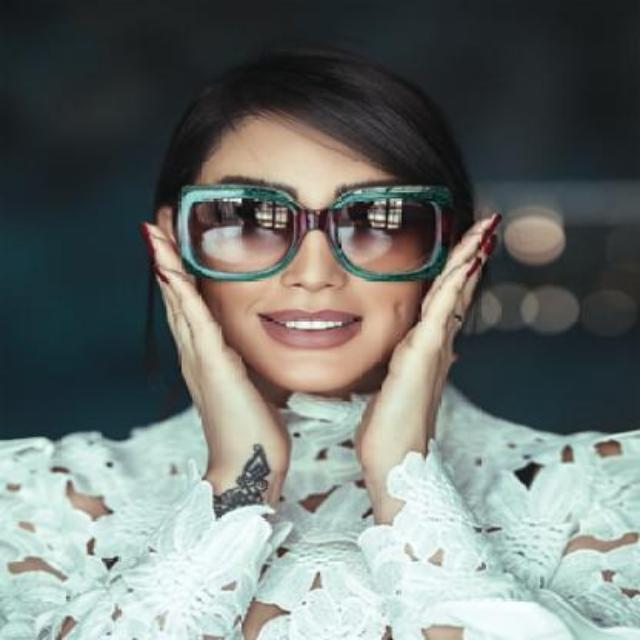sunglasses: (174, 183, 450, 281)
